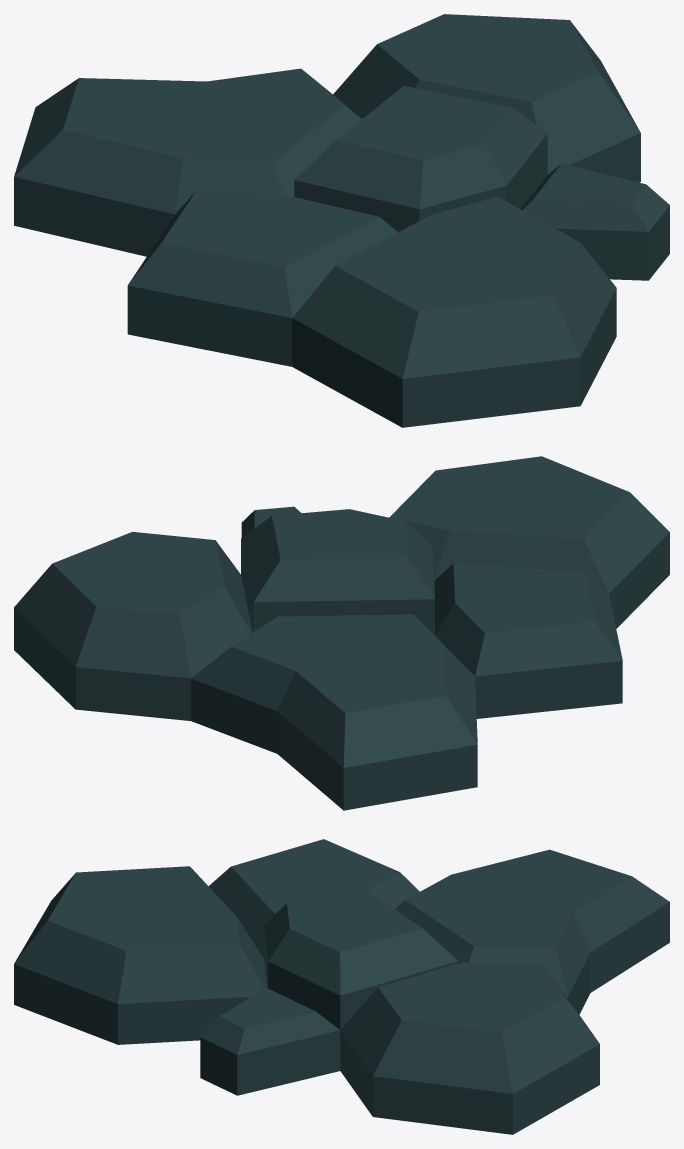
The model's file is lp_Rock_Type4_02_mesh_001_Circle_013.obj.
The picture shows the model from 3 angles, top to bottom: view 1: azimuth 30°, elevation 25°; view 2: azimuth 150°, elevation 25°; view 3: azimuth 270°, elevation 25°; orthographic projection. The views are drawn at different scales.
Parts seen in each view (by area): view 1: lp_Rock_Type4_02_mesh_001_Circle_013; view 2: lp_Rock_Type4_02_mesh_001_Circle_013; view 3: lp_Rock_Type4_02_mesh_001_Circle_013.
Part boxes in pixels (left/top/right/bottom): lp_Rock_Type4_02_mesh_001_Circle_013: left=14, top=14, right=669, bottom=427; lp_Rock_Type4_02_mesh_001_Circle_013: left=14, top=456, right=669, bottom=810; lp_Rock_Type4_02_mesh_001_Circle_013: left=14, top=839, right=669, bottom=1134.
Size of the model in its own units: 6.37 by 1.3 by 7.4.
